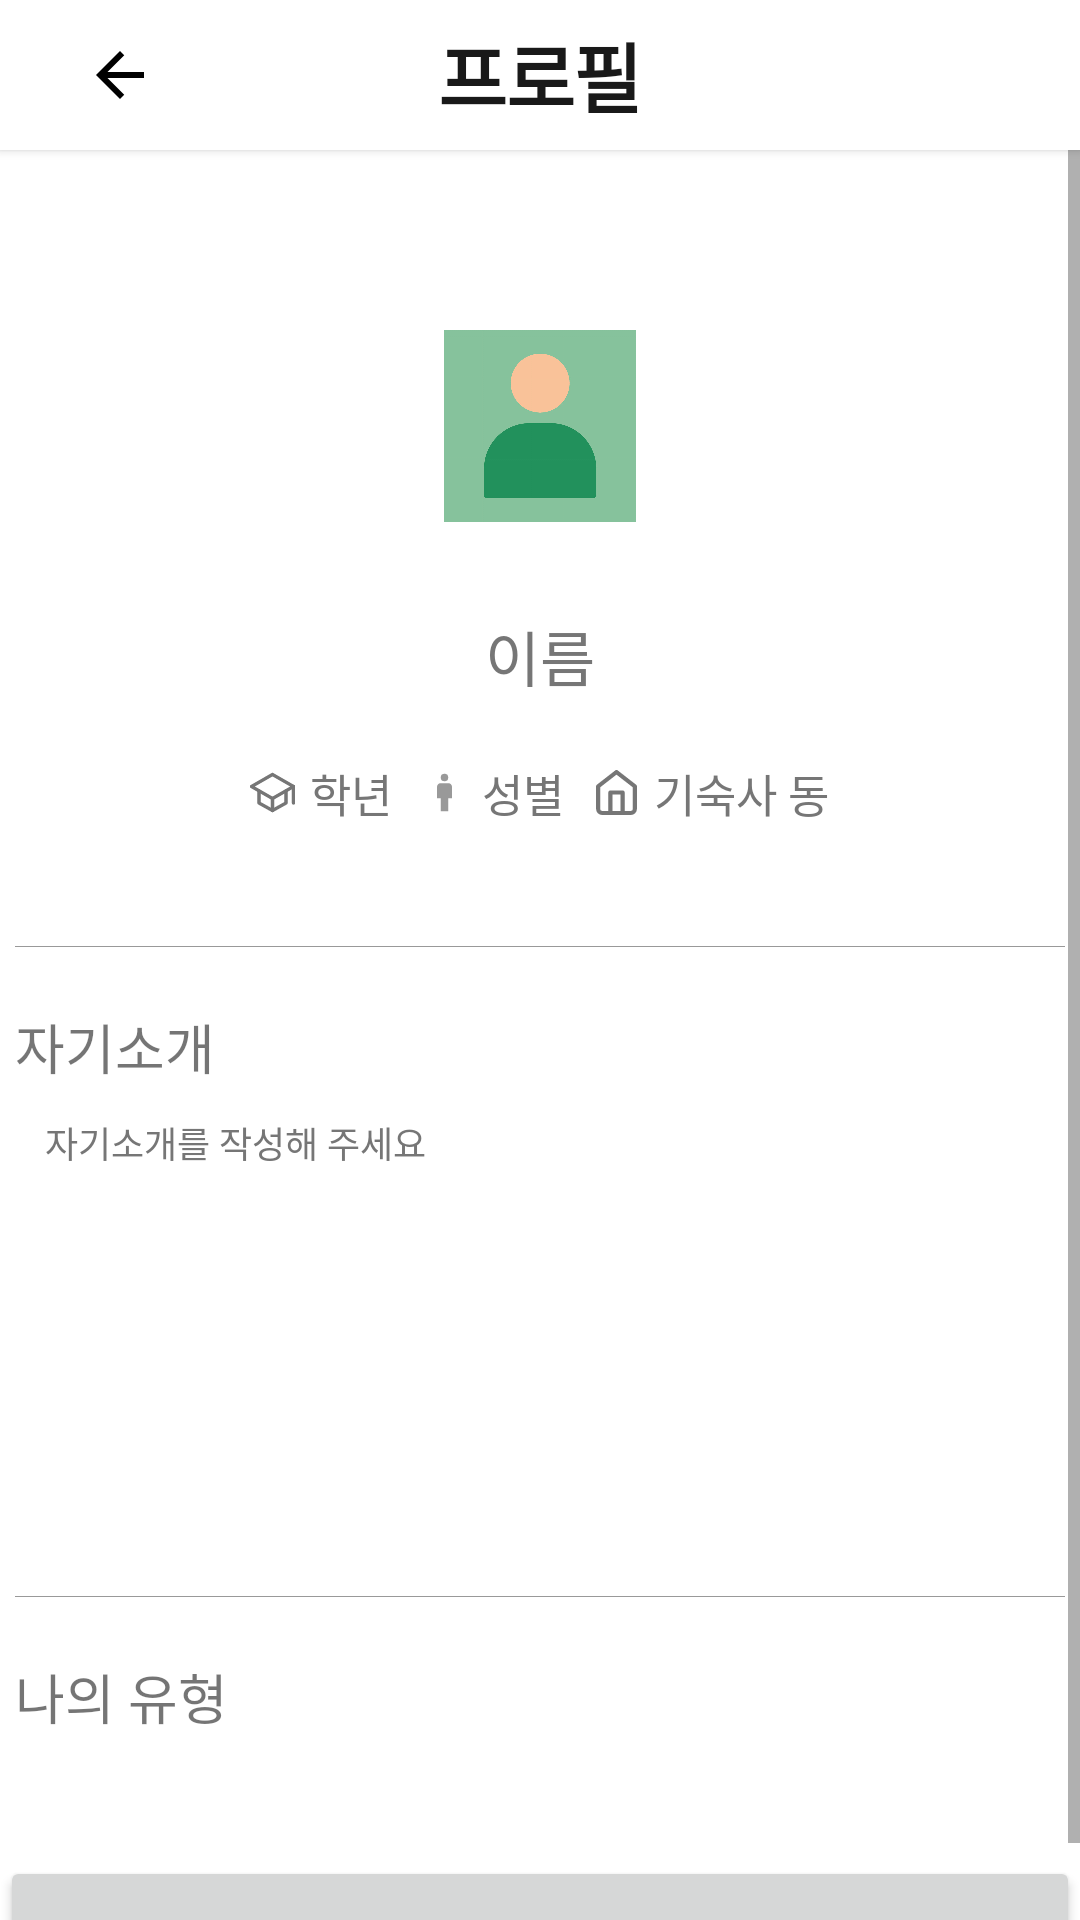

Named icons in this screenshot (1080x1920) and their bounding boxes, (x1, y1, x2, y2):
back: (96, 51, 144, 99)
cap: (250, 772, 295, 813)
home: (596, 770, 637, 815)
